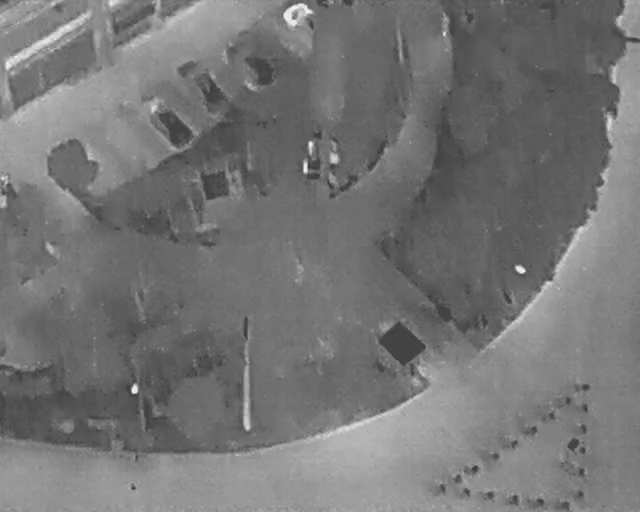Car: (138, 90, 200, 156), (223, 30, 283, 96), (280, 0, 337, 58), (183, 60, 233, 118)
